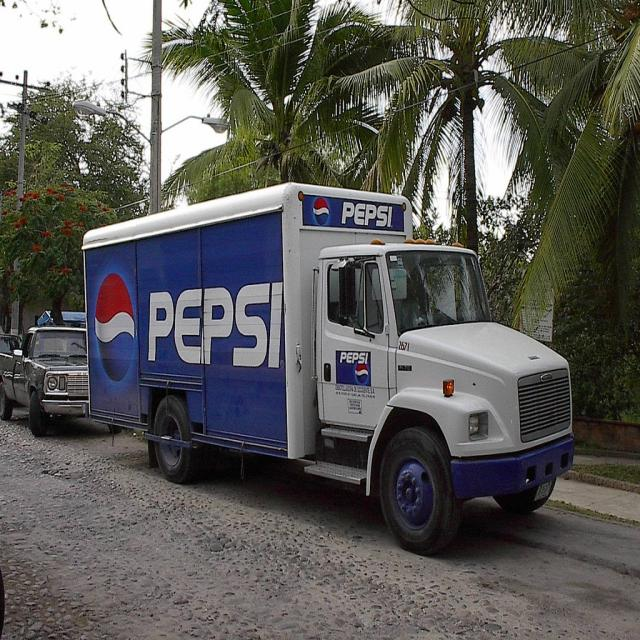pepsi: (93, 271, 138, 386), (312, 194, 333, 227), (353, 364, 369, 385)
